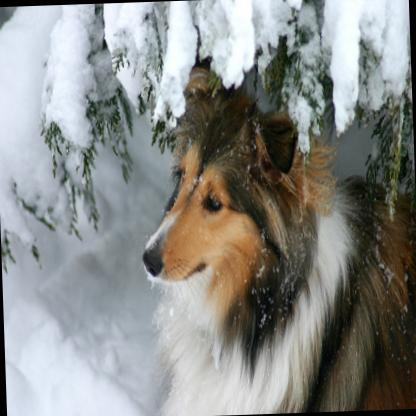Shetland_sheepdog: (136, 64, 416, 416)
